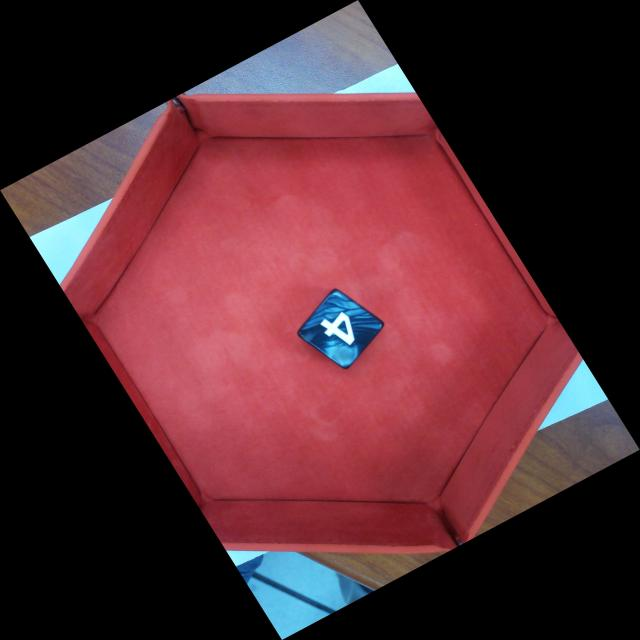dice: (300, 292, 387, 368)
